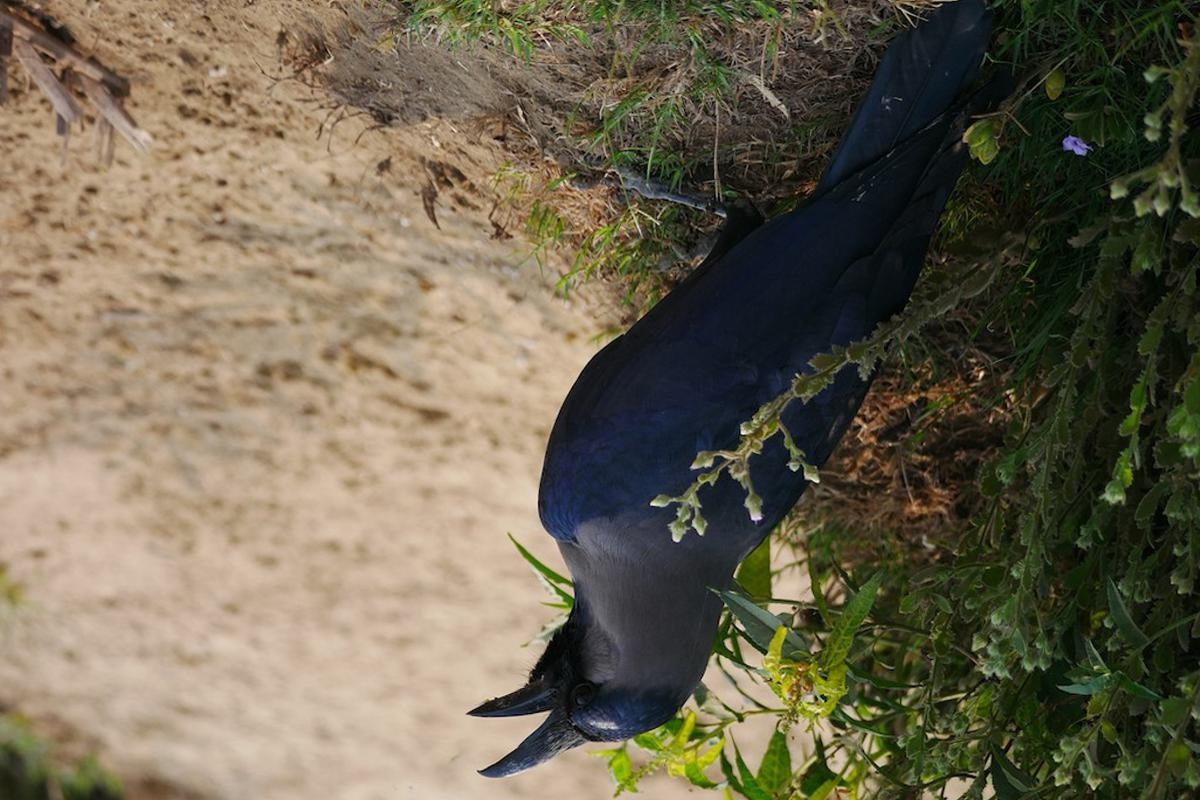crow: (456, 16, 1005, 785)
